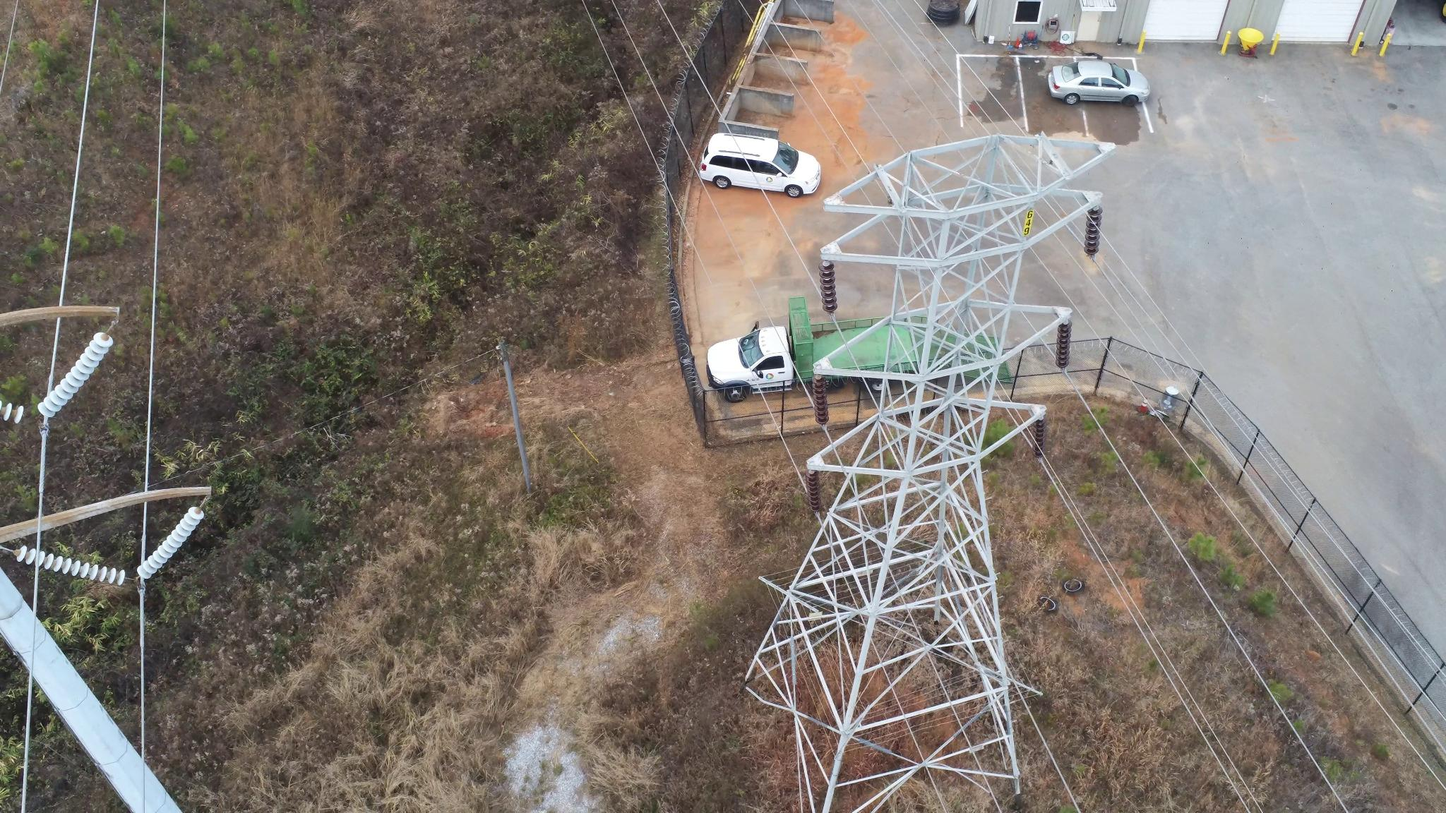tower: (743, 131, 1119, 813)
